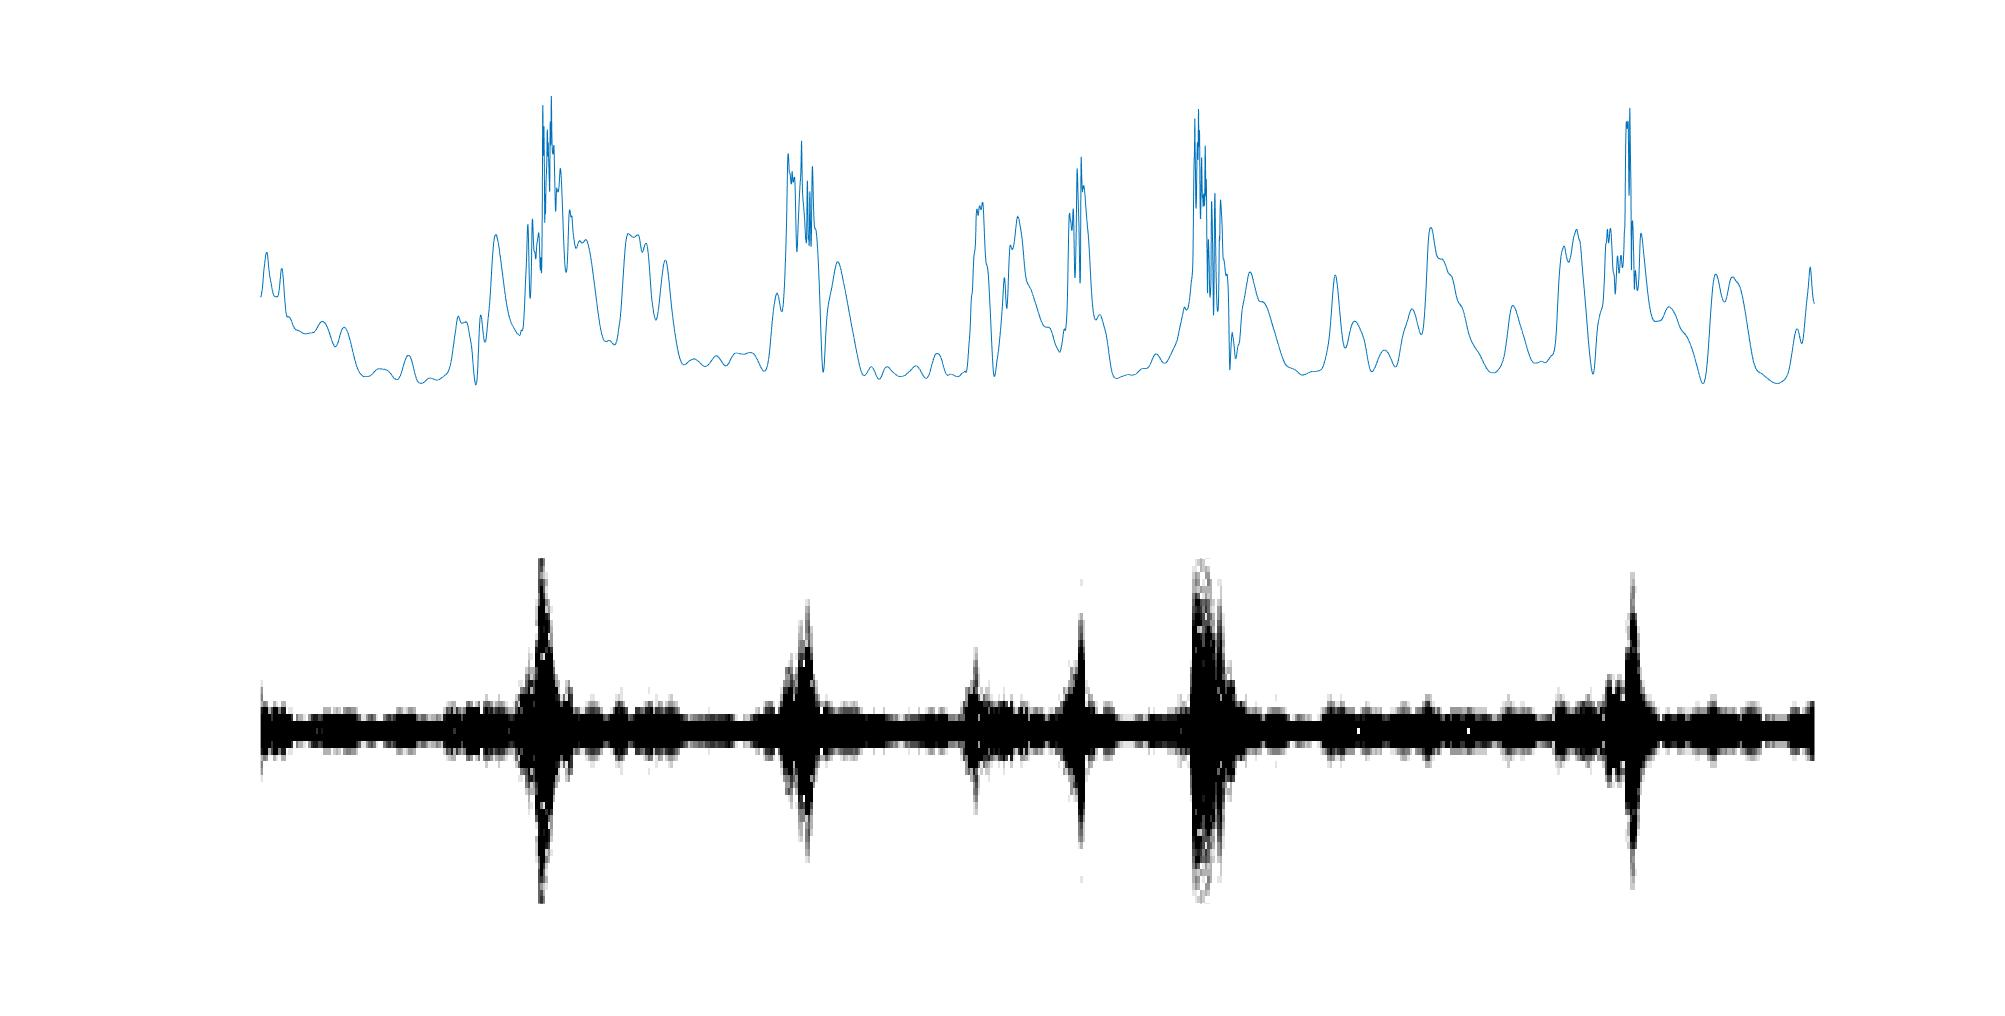kangaroo: (1181, 552, 1241, 912), (1607, 565, 1657, 892), (521, 553, 563, 908), (1049, 608, 1107, 849), (778, 597, 828, 867)
